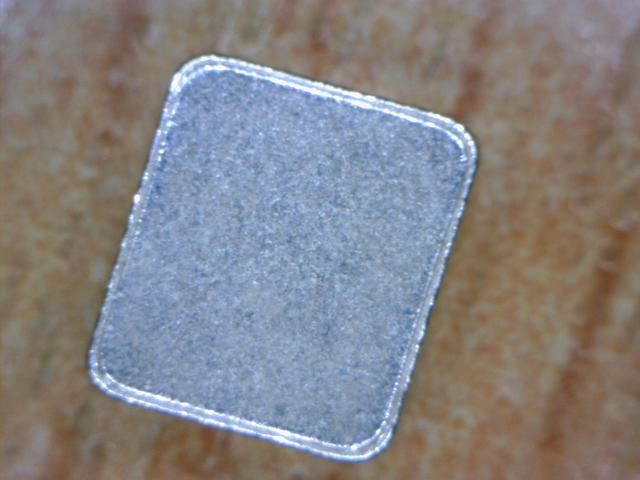nok: (76, 49, 473, 465)
